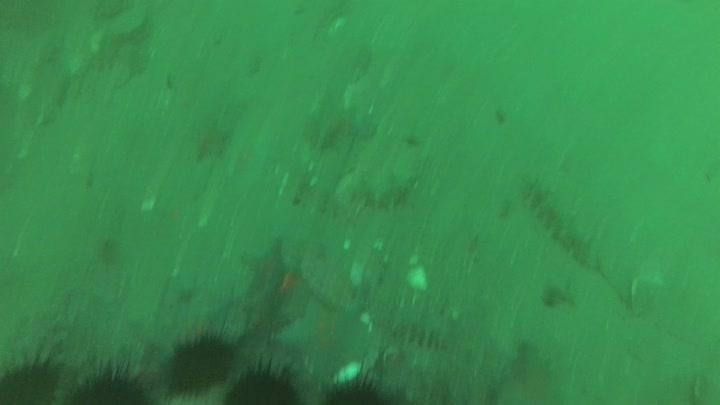echinus: (163, 329, 239, 398), (61, 357, 155, 404), (221, 357, 304, 404), (0, 347, 67, 404), (318, 363, 400, 404)
holothurian: (520, 175, 601, 268), (373, 294, 455, 350), (338, 160, 420, 213)
starfish: (274, 292, 373, 378), (238, 237, 314, 319), (492, 341, 572, 405), (304, 90, 376, 155), (169, 291, 237, 345), (190, 117, 235, 164)
